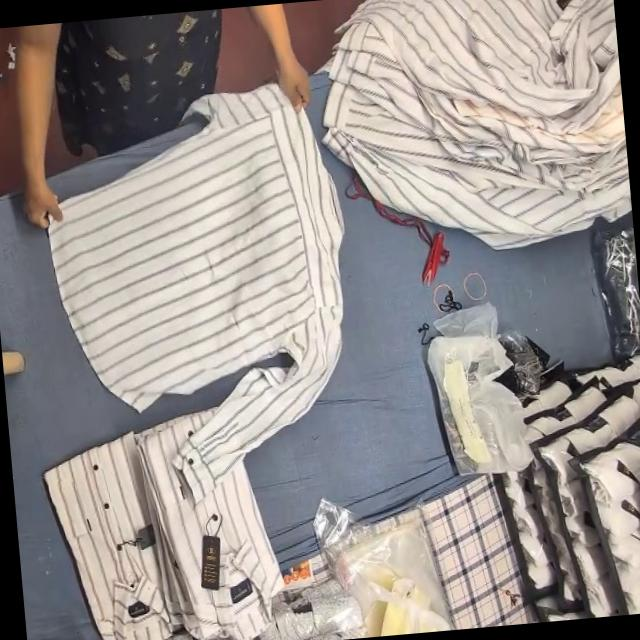new-garment: (48, 85, 342, 490)
